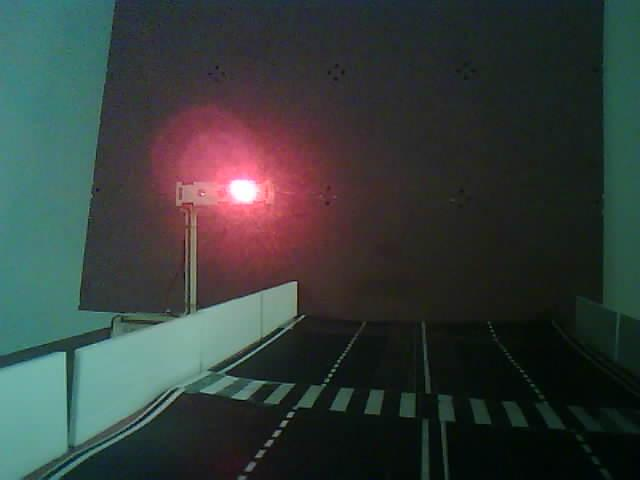crosswalk: (136, 344, 640, 461)
red: (127, 114, 328, 323)
